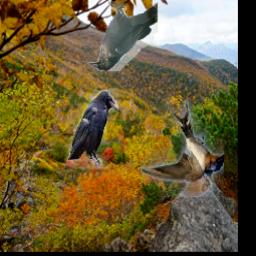Crow: (64, 90, 118, 185), (87, 1, 158, 71)
Swallow: (142, 98, 225, 198)
